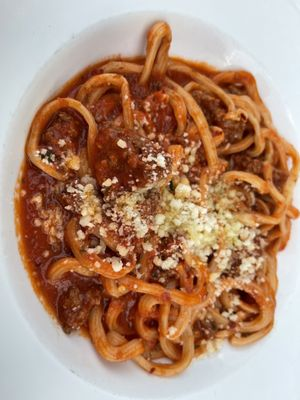sushi: (1, 11, 299, 364)
